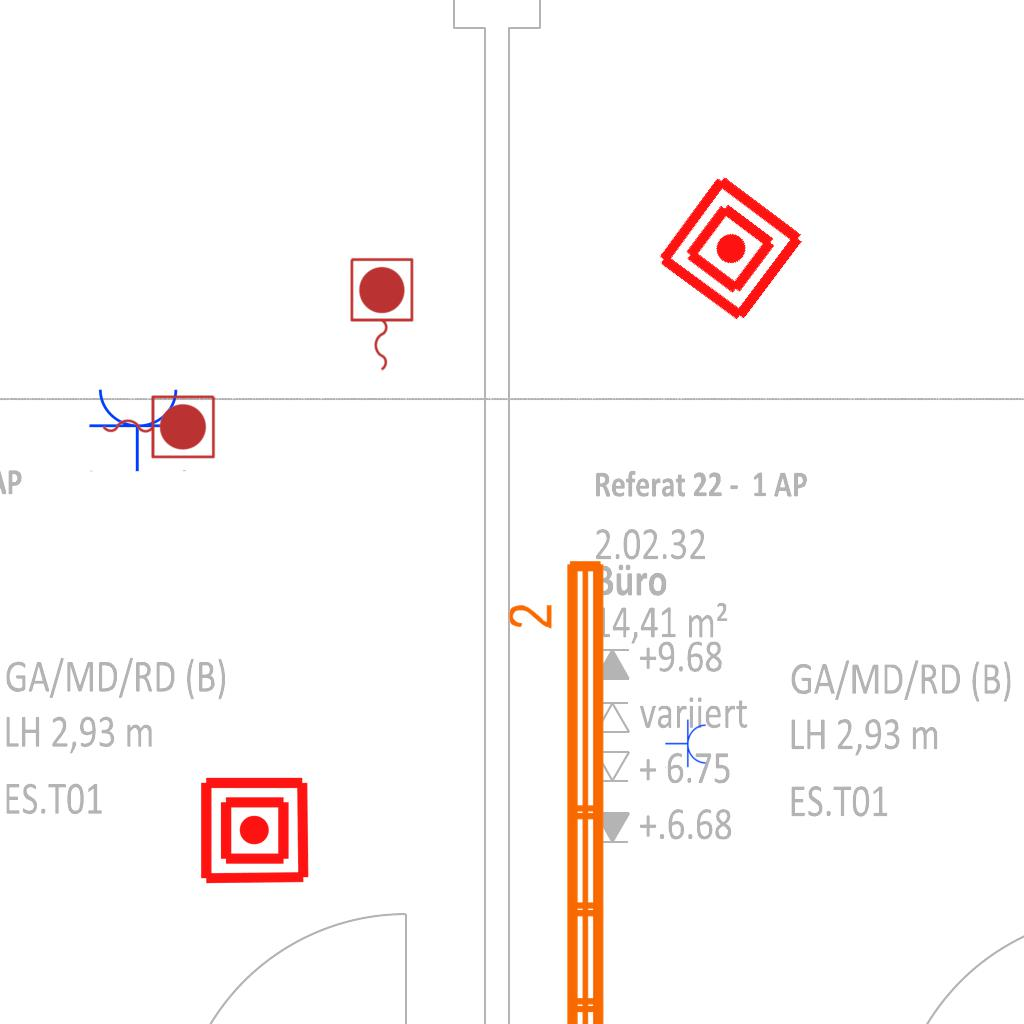Ambulanz_Pendelleuchte_LED: (504, 552, 616, 1024)
NAM-Nichtautomatischer_Melder: (651, 169, 810, 328), (198, 774, 311, 887)
Schukosteckdose_einfach: (88, 385, 188, 472), (665, 719, 708, 769)
Zugtaster: (345, 254, 417, 376), (97, 390, 219, 462)
